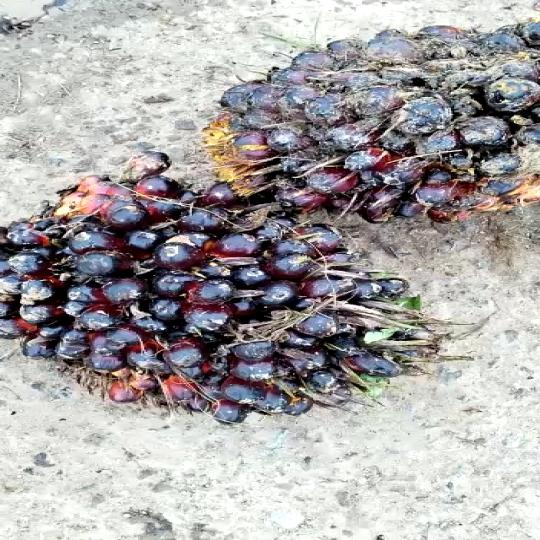kurang masak: (0, 179, 471, 438), (170, 8, 540, 228)
